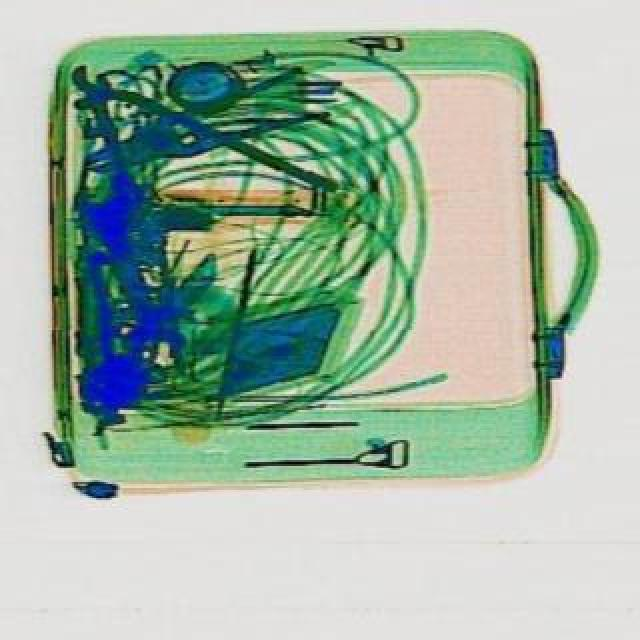scissors: (70, 166, 198, 374)
wrench: (78, 64, 334, 196)
